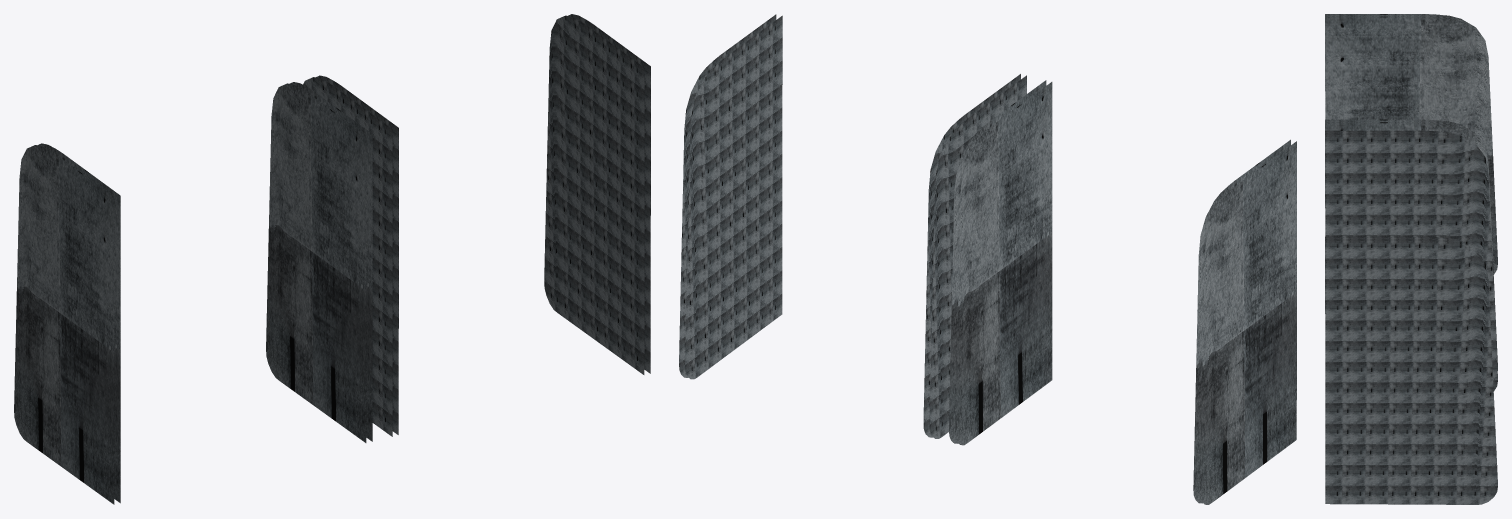
The model's file is store_7.obj.
3 views of the same model, side by side, from view 1: azimuth 30°, elevation 25°; view 2: azimuth 150°, elevation 25°; view 3: azimuth 270°, elevation 25° (orthographic). The views are drawn at different scales.
Size of the model in its own units: 91.39 by 50.29 by 29.64.
